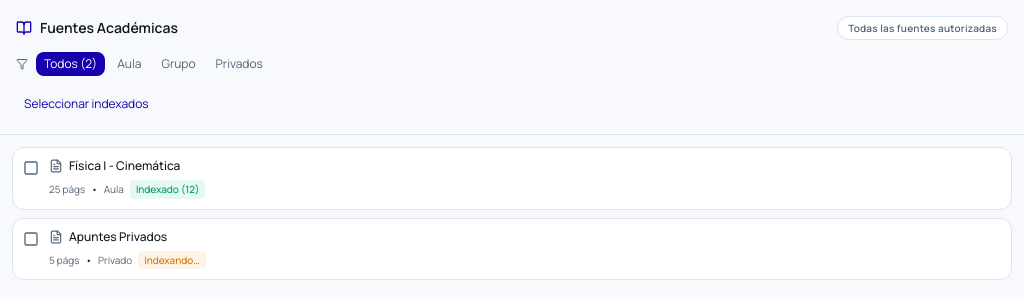
SourceSelectorPanel › filtra por alcance aula o privados
What coordinates should you click on to do the following:
click the button "Aula"
I would click on:
 (129, 64)
Its box is [109,52,149,76].
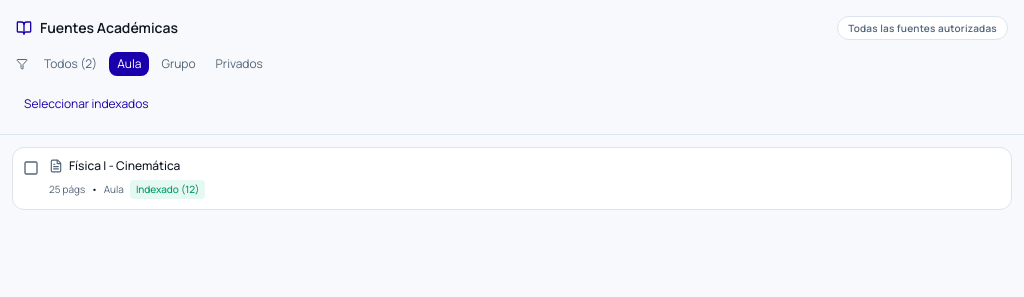
Expected: the text "Física I - Cinemática" is shown, [69,158,180,174]
Expected: the text "Apuntes Privados" is gone
What coordinates should you click on to do the following:
click the button "Privados"
I would click on:
 (239, 64)
Its box is [208,52,271,76].
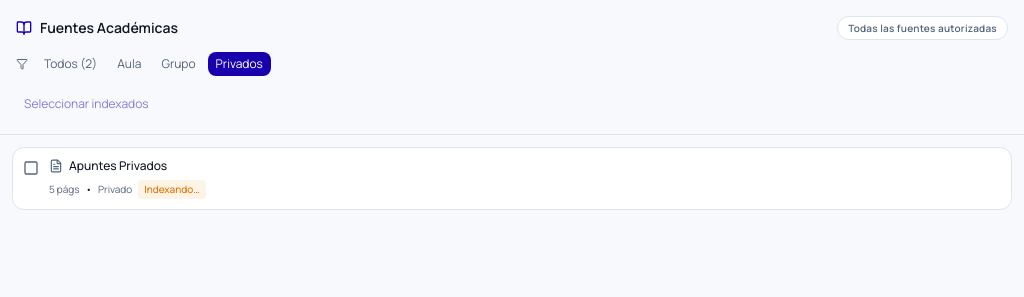
Expected: the text "Física I - Cinemática" is gone
Expected: the text "Apuntes Privados" is shown, [69,158,167,174]
